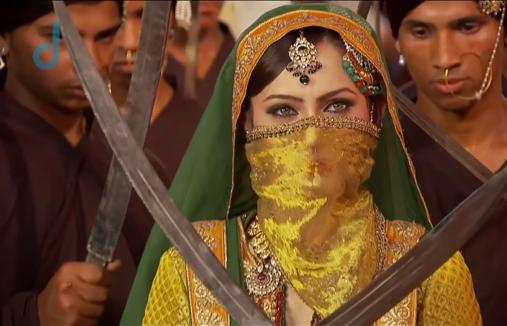NONE: (403, 13, 493, 112), (35, 19, 116, 114), (100, 2, 171, 86)
OK: (254, 86, 369, 201)
